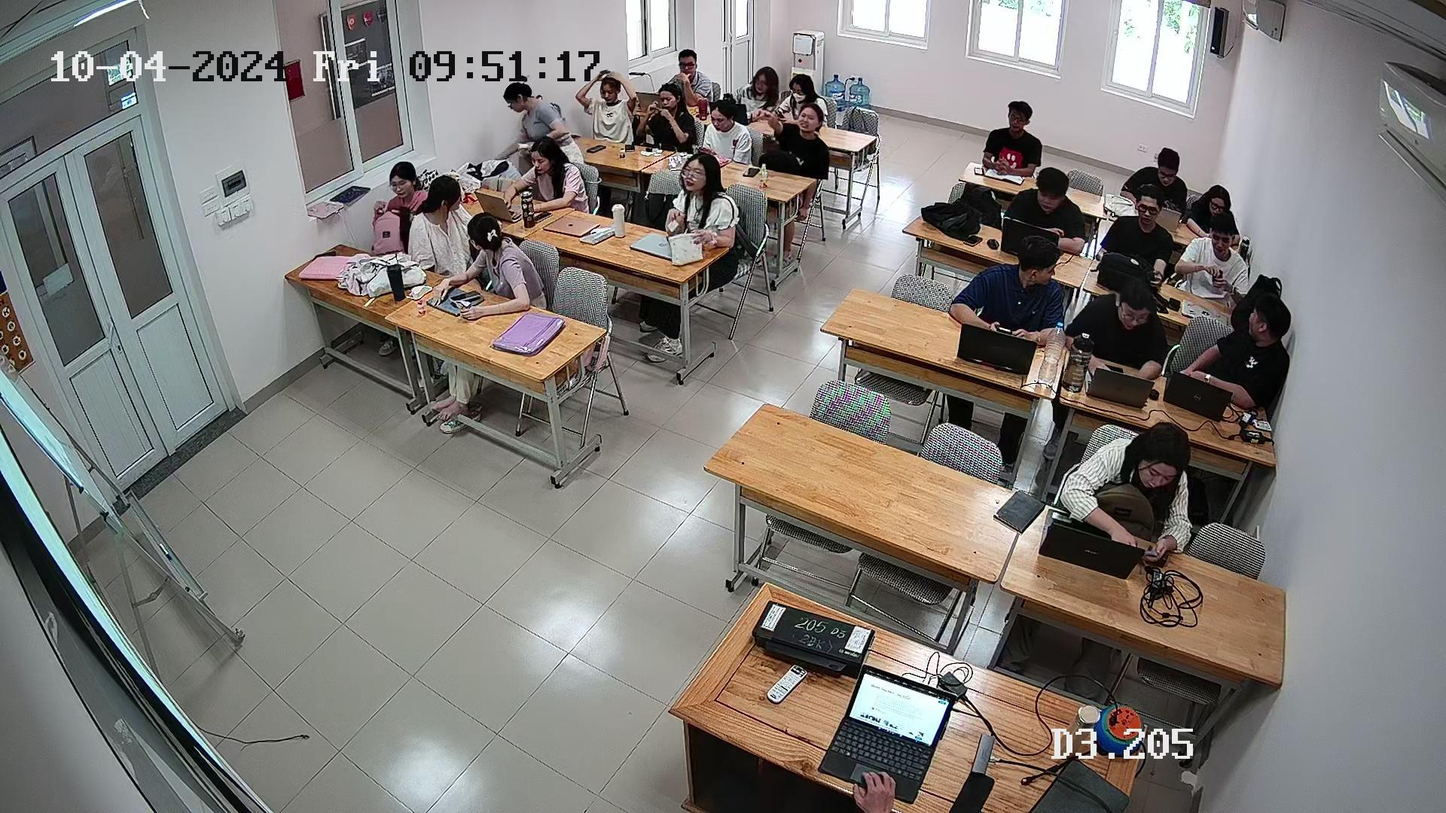Look Around: (476, 224, 530, 310), (420, 172, 468, 256)
phone: (1135, 542, 1162, 575), (991, 320, 1015, 339)
